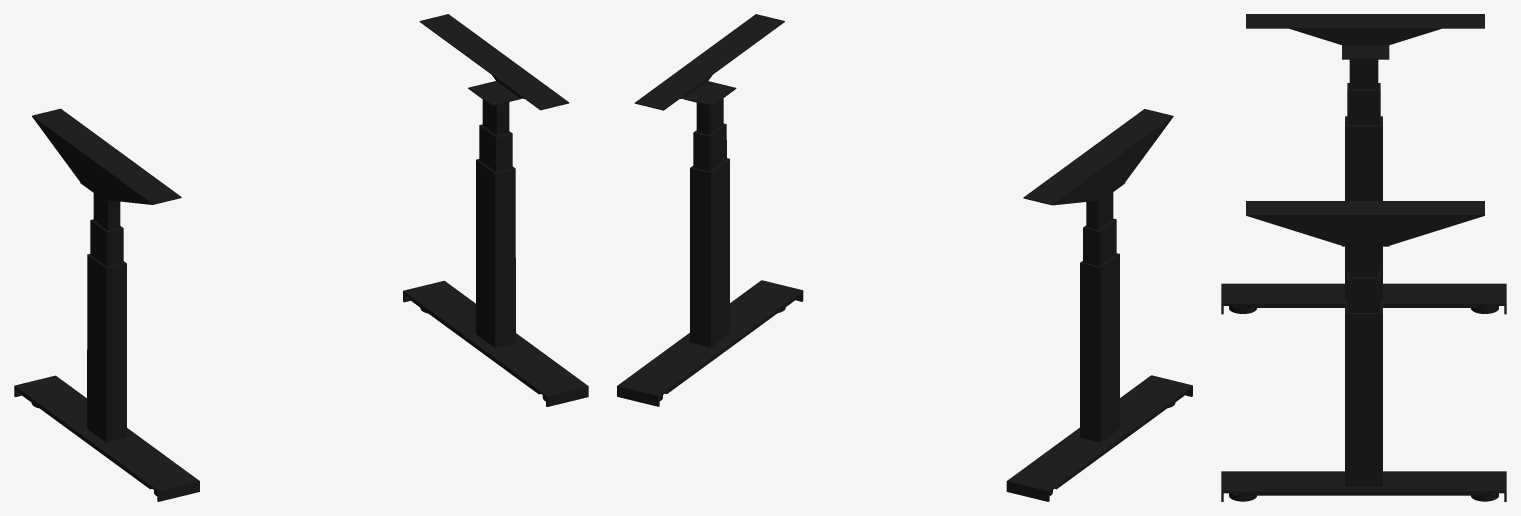
The model's file is deskDefoult4.gltf.
3 renders of one model, left to right at view 1: azimuth 30°, elevation 25°; view 2: azimuth 150°, elevation 25°; view 3: azimuth 270°, elevation 25°, orthographic.
Parts seen in each view (by area): view 1: deskDefoult4; view 2: deskDefoult4; view 3: deskDefoult4.
Part boxes in pixels (x1,y1,x2,y2): deskDefoult4: (14, 14, 588, 501); deskDefoult4: (617, 14, 1192, 501); deskDefoult4: (1221, 14, 1506, 501).
Size of the model in its own units: 5.17 by 3.33 by 3.
Materials: 1 (1 with a texture image).
